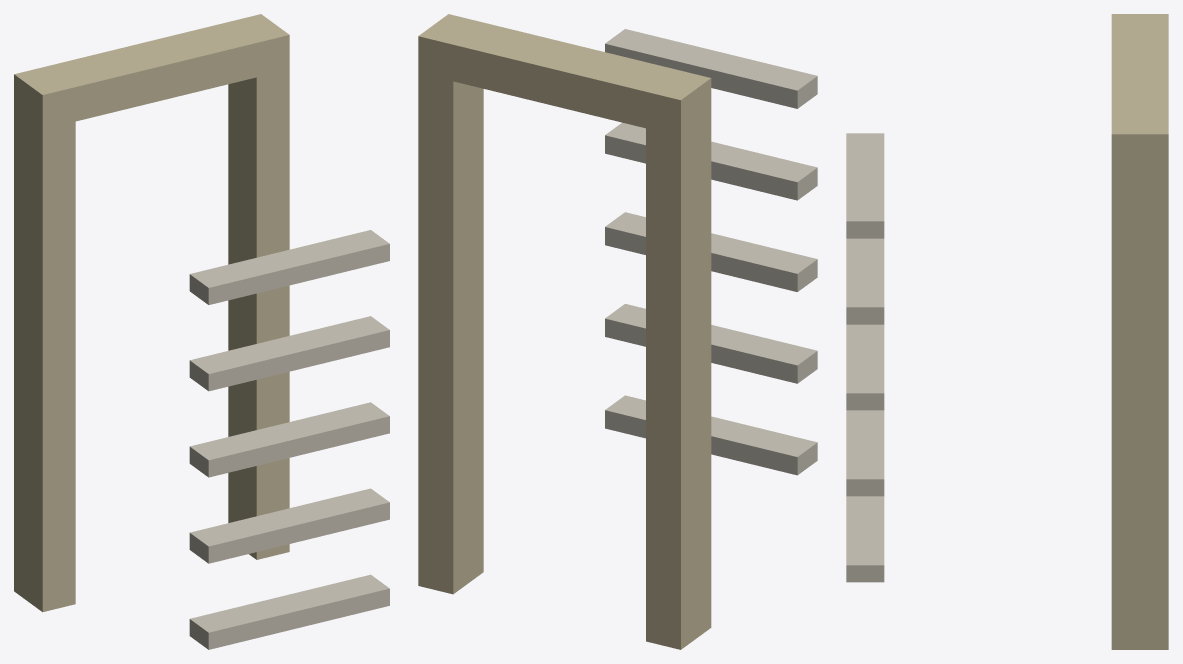
Rendered from telar_sauce_01.glb.
3 views of the same model, side by side, from view 1: azimuth 30°, elevation 25°; view 2: azimuth 150°, elevation 25°; view 3: azimuth 270°, elevation 25° (orthographic). The views are drawn at different scales.
Visible parts, largest first — view 1: telar_sauce; view 2: telar_sauce; view 3: telar_sauce.
Part boxes in pixels (x1,y1,x2,y2): telar_sauce: (14, 14, 389, 649); telar_sauce: (418, 14, 817, 649); telar_sauce: (846, 14, 1168, 649).
Bounding box in the file's own units: 1 × 2 × 1.13.
